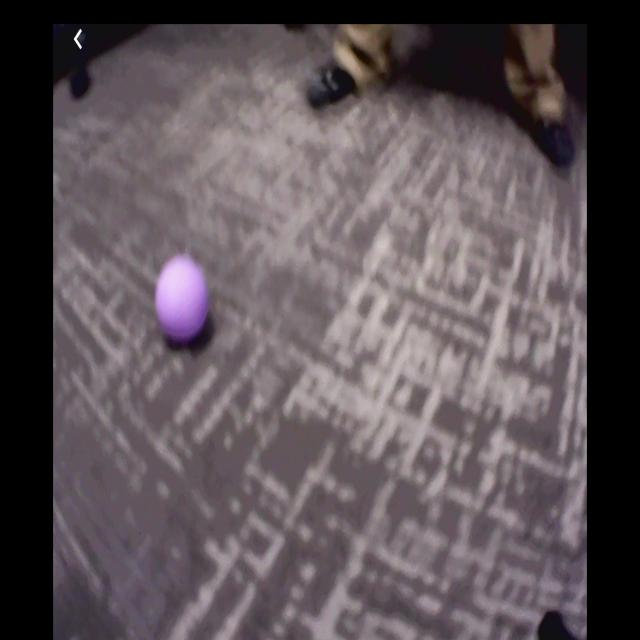ball: (157, 256, 210, 342)
